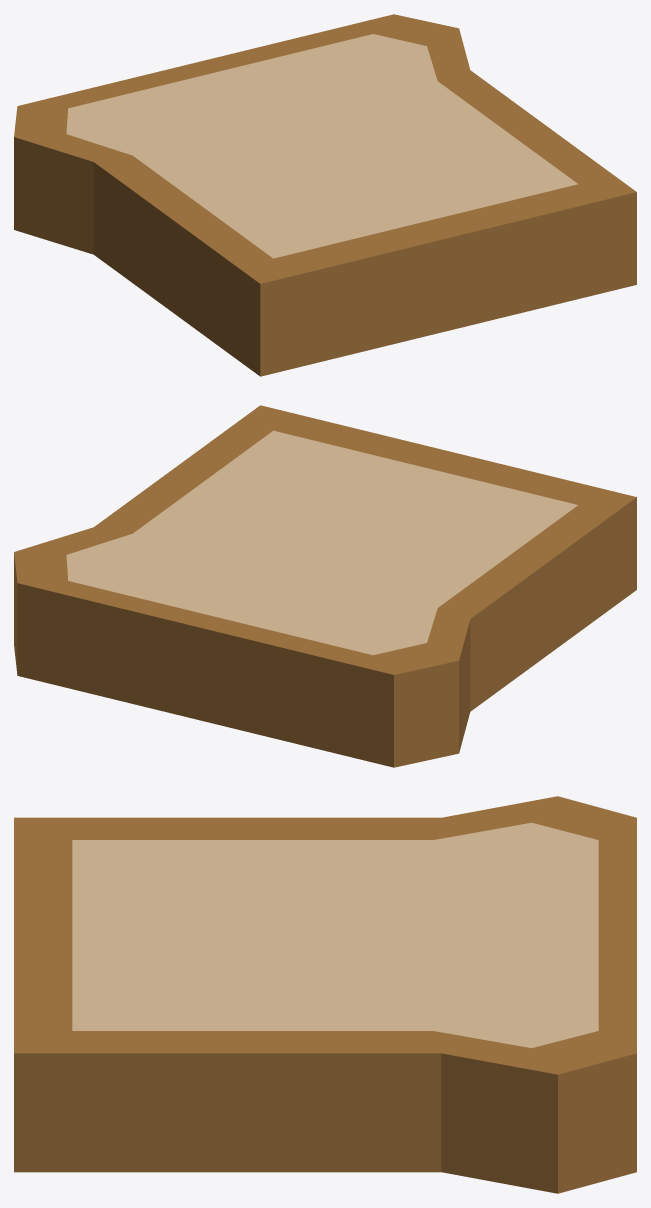
Rendered from food-toast-piece.glb.
3 views of the same model, one above another, from view 1: azimuth 30°, elevation 25°; view 2: azimuth 150°, elevation 25°; view 3: azimuth 270°, elevation 25° (orthographic). The views are drawn at different scales.
Parts seen in each view (by area): view 1: toast-piece; view 2: toast-piece; view 3: toast-piece.
Boxes of the visible parts, left/top/right/bottom form: toast-piece: left=14, top=14, right=636, bottom=376; toast-piece: left=14, top=405, right=636, bottom=767; toast-piece: left=14, top=796, right=636, bottom=1193.
Size of the model in its own units: 0.1326 by 0.0265 by 0.1254.
